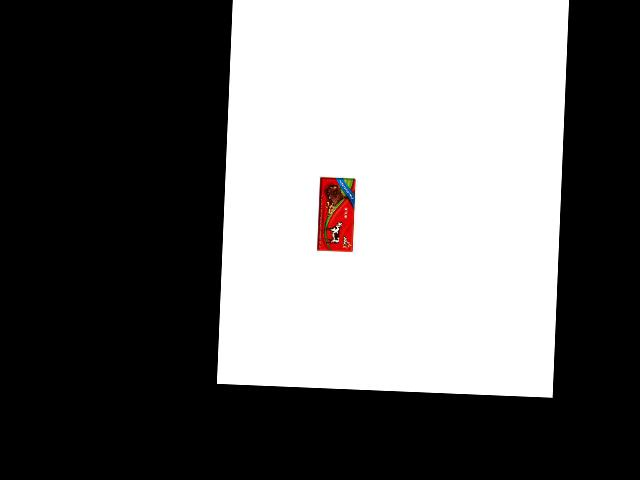chocolate: (317, 177, 356, 255)
